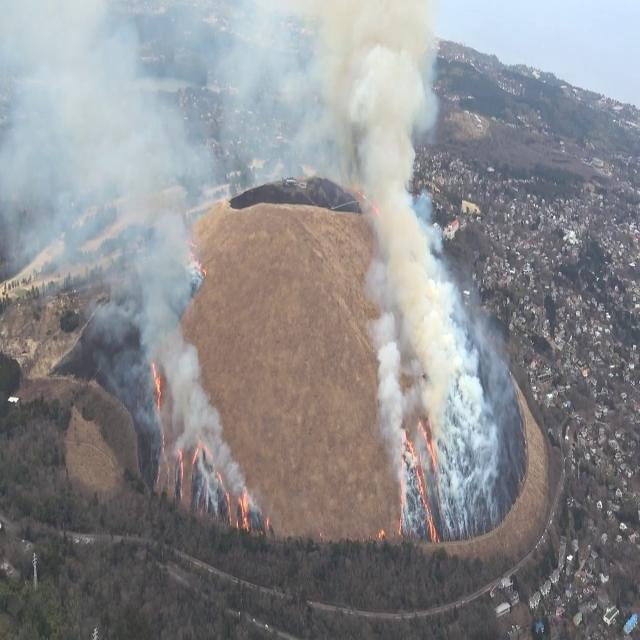Fire: (148, 356, 166, 416), (236, 483, 252, 532)
Smoke: (310, 4, 514, 536), (0, 0, 228, 372)
